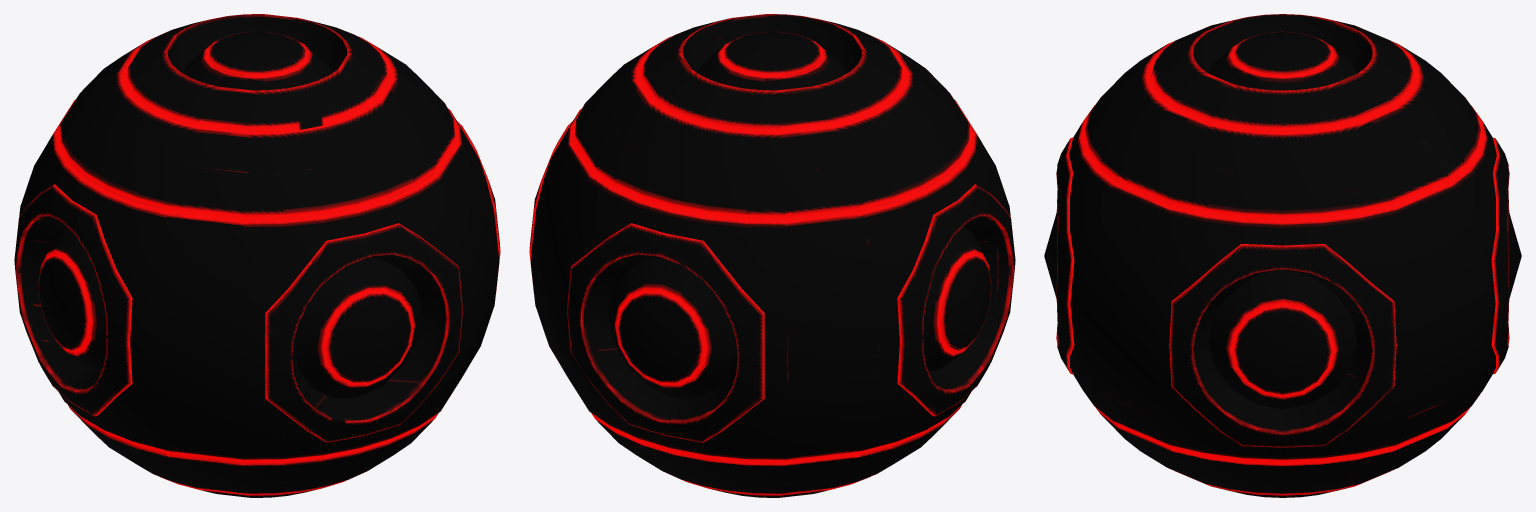
Rendered from BallGRoup.fbx.
The picture shows the model from 3 angles, left to right: view 1: azimuth 30°, elevation 25°; view 2: azimuth 150°, elevation 25°; view 3: azimuth 270°, elevation 25°; orthographic projection.
Visible parts, largest first — view 1: Sphere014 (×3); view 2: Sphere014 (×3); view 3: Sphere014 (×3).
Part boxes in pixels (<box>): Sphere014 (×3): <box>14,14,500,497</box>; Sphere014 (×3): <box>529,14,1015,497</box>; Sphere014 (×3): <box>1044,14,1521,497</box>.
Bounding box in the file's own units: 2 × 2 × 2.
